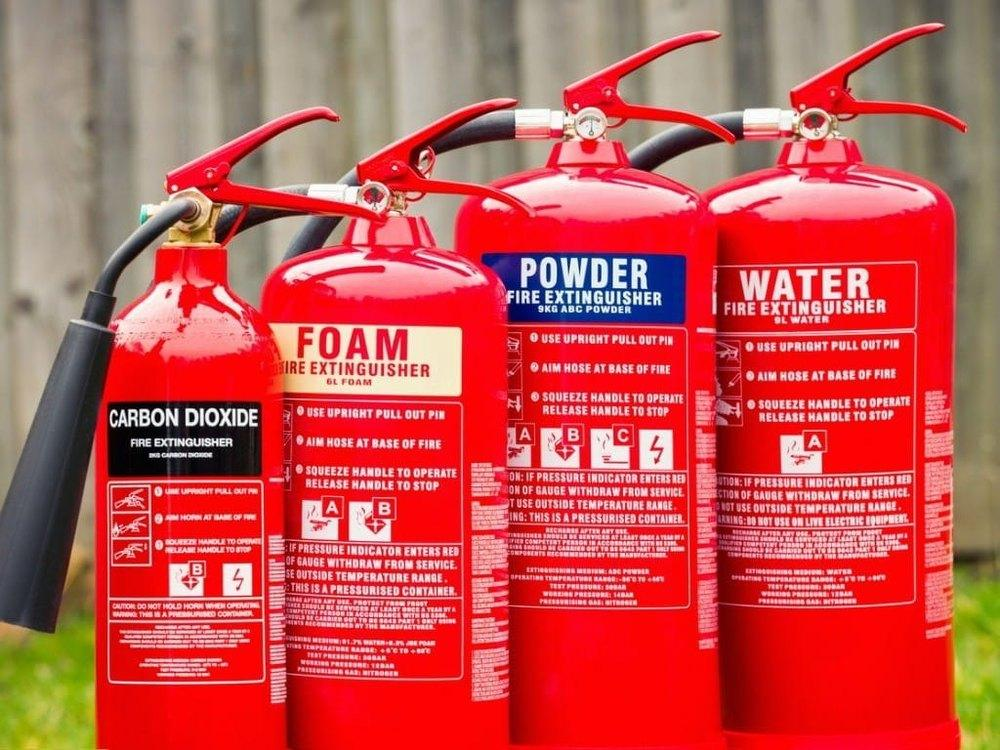Fire Extinguisher: (732, 22, 982, 750), (68, 58, 300, 740), (520, 16, 720, 750), (314, 70, 516, 750)
